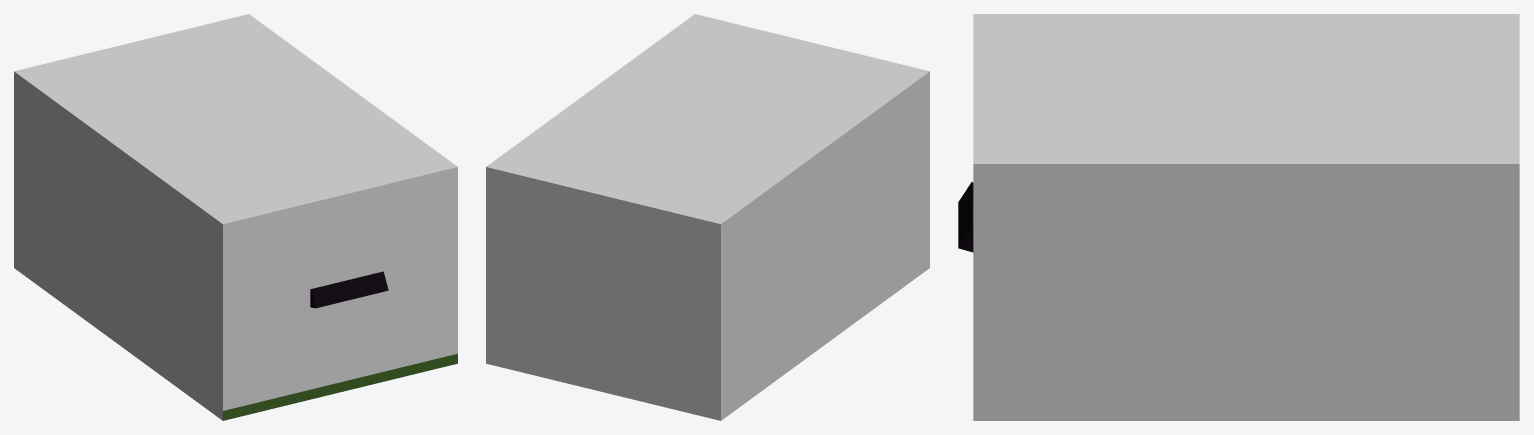
Rendered from gaveta.fbx.
The picture shows the model from 3 angles, left to right: view 1: azimuth 30°, elevation 25°; view 2: azimuth 150°, elevation 25°; view 3: azimuth 270°, elevation 25°; orthographic projection. The views are drawn at different scales.
Parts seen in each view (by area): view 1: Cube; view 2: Cube; view 3: Cube.
Boxes of the visible parts, bbox=[...] form: Cube: bbox=[14, 14, 457, 420]; Cube: bbox=[486, 14, 929, 420]; Cube: bbox=[958, 14, 1519, 420].
Bounding box in the file's own units: 250 × 200 × 396.
